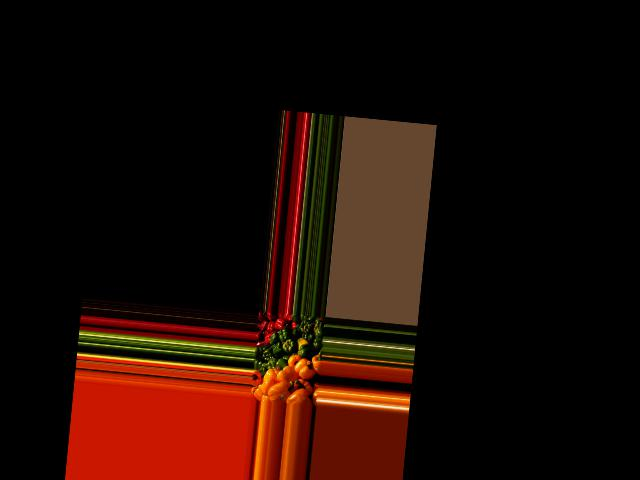bell_pepper: (313, 316, 326, 333)
